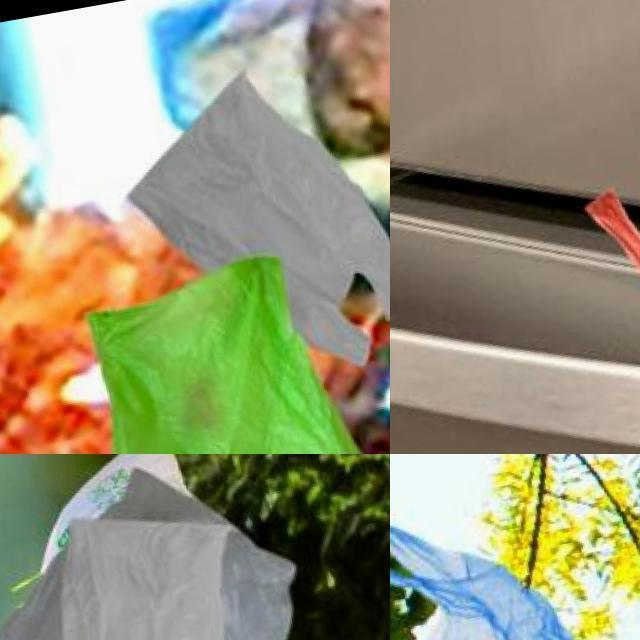waste: (116, 42, 390, 394), (79, 235, 390, 454), (0, 454, 342, 640), (390, 478, 640, 640)
